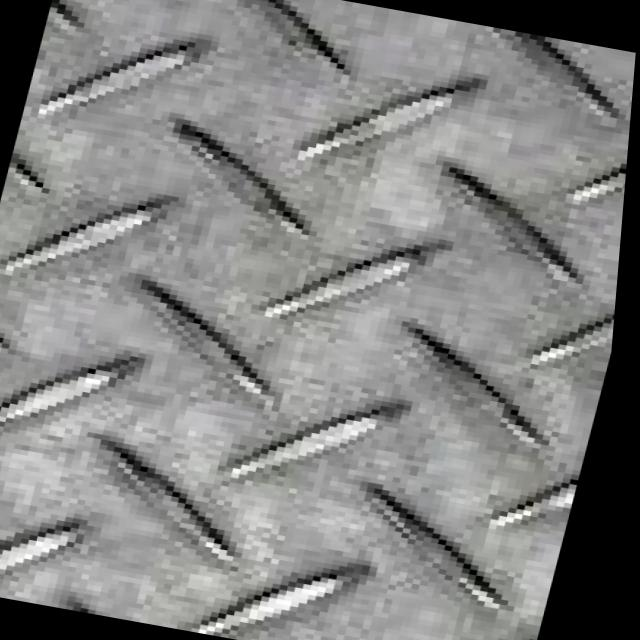metal-plates: (1, 1, 638, 640)
